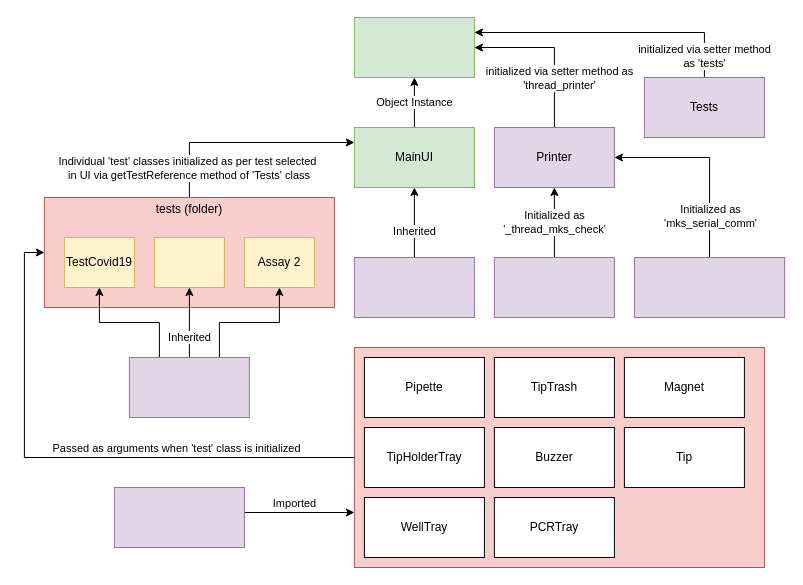
Image size: 803x585. Some labels were removed from this diagram. The centre of each missing label's shape, as x and y in pixels:
"Assay 1" belongs at point (188, 262).
"main_window" belongs at point (413, 47).
"MechanicalParameters" belongs at point (178, 517).
"MKSCheck" belongs at point (553, 287).
"MKSSerialCommunication" belongs at point (709, 287).
"TestBase" belongs at point (188, 387).
"xenovia_ui" belongs at point (413, 287).
